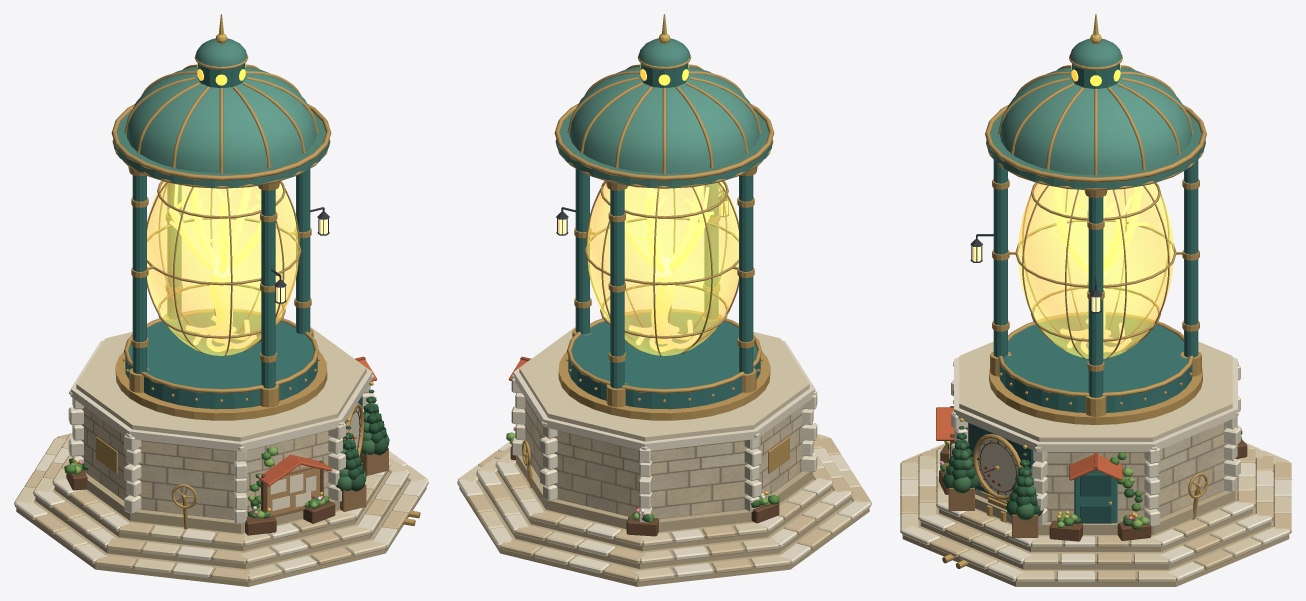
3 renders of one model, left to right at view 1: azimuth 30°, elevation 25°; view 2: azimuth 150°, elevation 25°; view 3: azimuth 270°, elevation 25°, orthographic.
Visible parts, largest first — view 1: square_teal, square_beacon_glass, square_brass, square_limestone, square_limestone_pale, square_copper, square_ashlar, square_limestone_shade, square_limestone_warm, square_spark, square_copper_dark, square_wood_dark (+6 smaller); view 2: square_teal, square_beacon_glass, square_brass, square_limestone, square_ashlar, square_limestone_pale, square_copper, square_limestone_shade, square_limestone_warm, square_spark, square_copper_dark, square_wood_dark; view 3: square_teal, square_beacon_glass, square_brass, square_limestone, square_copper, square_limestone_pale, square_limestone_shade, square_ashlar, square_limestone_warm, square_copper_dark, square_spark, square_teal_dark (+7 smaller).
Boxes of the visible parts, <box> form: square_teal: <box>125,63,317,409</box>; square_beacon_glass: <box>147,181,298,355</box>; square_brass: <box>96,54,420,529</box>; square_limestone: <box>14,327,427,582</box>; square_limestone_pale: <box>15,330,428,577</box>; square_copper: <box>126,67,316,173</box>; square_ashlar: <box>81,406,331,519</box>; square_limestone_shade: <box>16,463,426,586</box>; square_limestone_warm: <box>24,433,407,582</box>; square_spark: <box>168,184,276,351</box>; square_copper_dark: <box>113,38,329,187</box>; square_wood_dark: <box>66,460,335,535</box>; square_teal: <box>568,63,760,409</box>; square_beacon_glass: <box>587,181,738,355</box>; square_brass: <box>522,54,789,488</box>; square_limestone: <box>458,327,861,582</box>; square_ashlar: <box>524,398,804,519</box>; square_limestone_pale: <box>457,330,870,577</box>; square_copper: <box>569,67,759,173</box>; square_limestone_shade: <box>459,455,869,586</box>; square_limestone_warm: <box>467,436,871,582</box>; square_spark: <box>608,185,713,351</box>; square_copper_dark: <box>556,38,772,187</box>; square_wood_dark: <box>510,447,779,536</box>; square_teal: <box>993,64,1198,523</box>; square_beacon_glass: <box>1017,183,1174,358</box>; square_brass: <box>942,54,1207,568</box>; square_limestone: <box>900,335,1291,582</box>; square_copper: <box>1000,67,1191,174</box>; square_limestone_pale: <box>900,357,1291,582</box>; square_limestone_shade: <box>902,458,1289,586</box>; square_ashlar: <box>964,423,1227,521</box>; square_limestone_warm: <box>900,444,1291,582</box>; square_copper_dark: <box>986,38,1205,189</box>; square_spark: <box>1050,186,1148,354</box>; square_teal_dark: <box>968,423,1111,523</box>.
Bounding box in the file's own units: 6.5 × 9.01 × 6.5.
37 materials, 1 textured.
